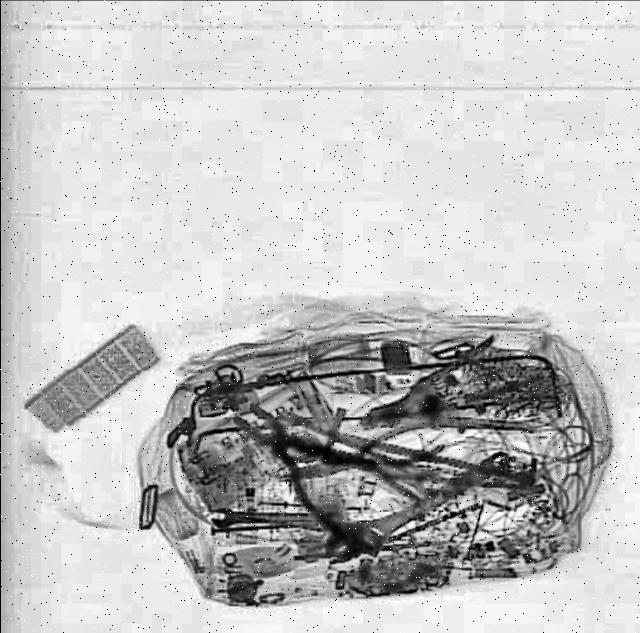Pliers: (208, 375, 426, 561), (342, 330, 530, 466)
Wrench: (316, 436, 520, 574), (210, 506, 338, 524)
